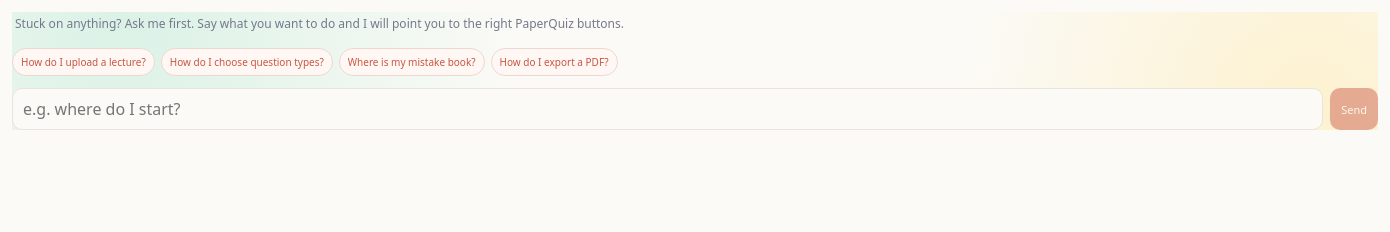
Test: shows Feedback when the API marks a request unsupported
What coordinates should you click on to do the following:
click the button "How do I export a PDF?"
I would click on:
 (554, 62)
Its box is [491,48,618,76].
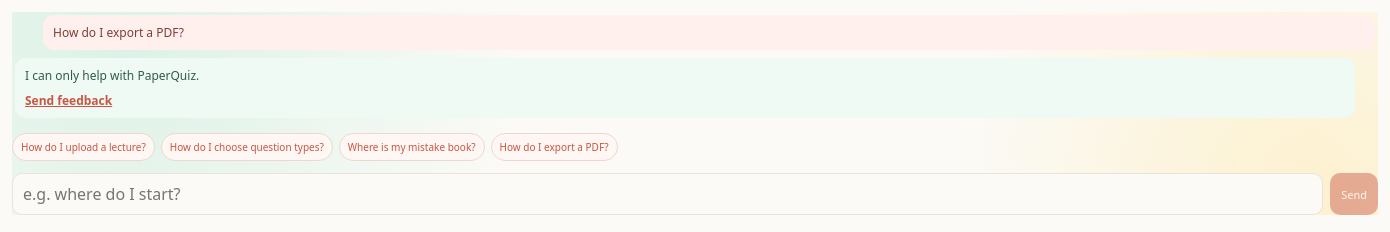
Now the link "Send feedback" is shown, box [25,92,112,109]
